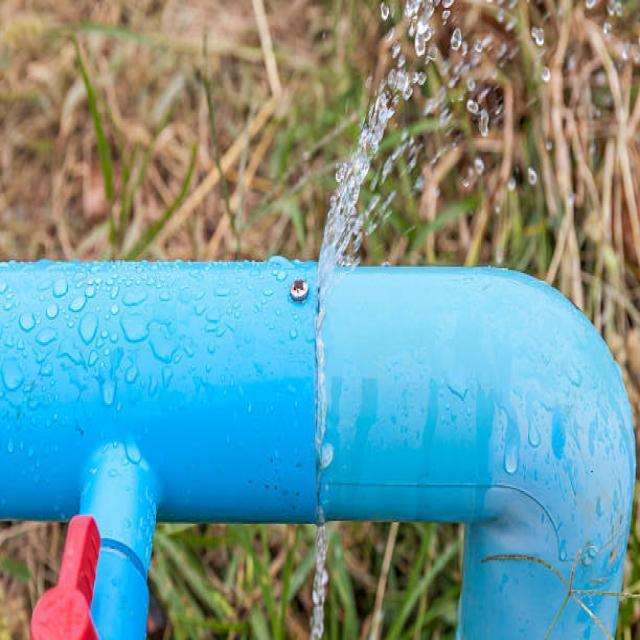pipe burst: (308, 0, 459, 640)
